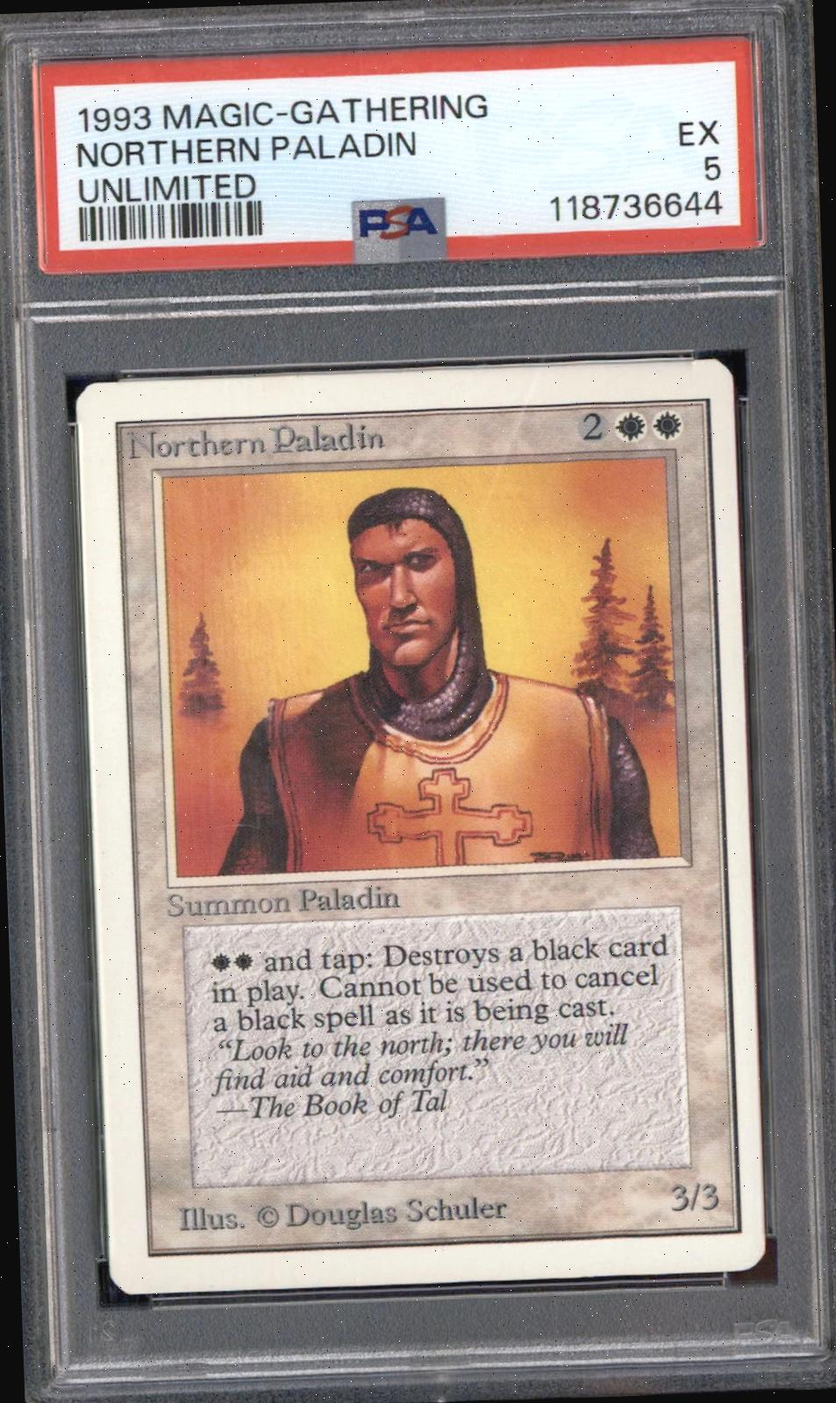card-2UtV: (74, 358, 765, 1295)
